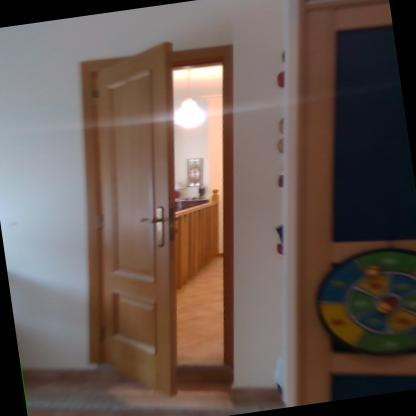semi: (60, 9, 305, 415)
